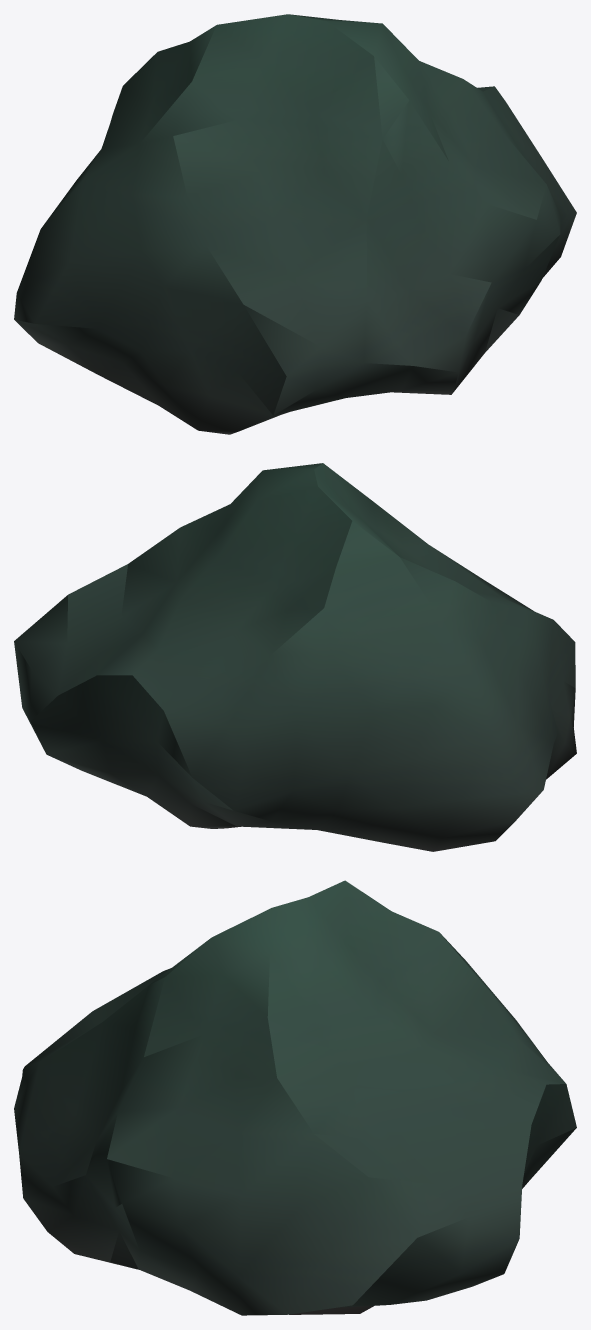
Rendered from SM_Rock_11.fbx.
3 renders of one model, top to bottom at view 1: azimuth 30°, elevation 25°; view 2: azimuth 150°, elevation 25°; view 3: azimuth 270°, elevation 25°, orthographic. The views are drawn at different scales.
Visible parts, largest first — view 1: SM_Rock_11; view 2: SM_Rock_11; view 3: SM_Rock_11.
Part boxes in pixels (bbox=[...]): SM_Rock_11: bbox=[14, 14, 576, 434]; SM_Rock_11: bbox=[14, 463, 576, 851]; SM_Rock_11: bbox=[14, 880, 576, 1315].
Bounding box in the file's own units: 293 × 182 × 255.
Materials: 1 (1 with a texture image).
